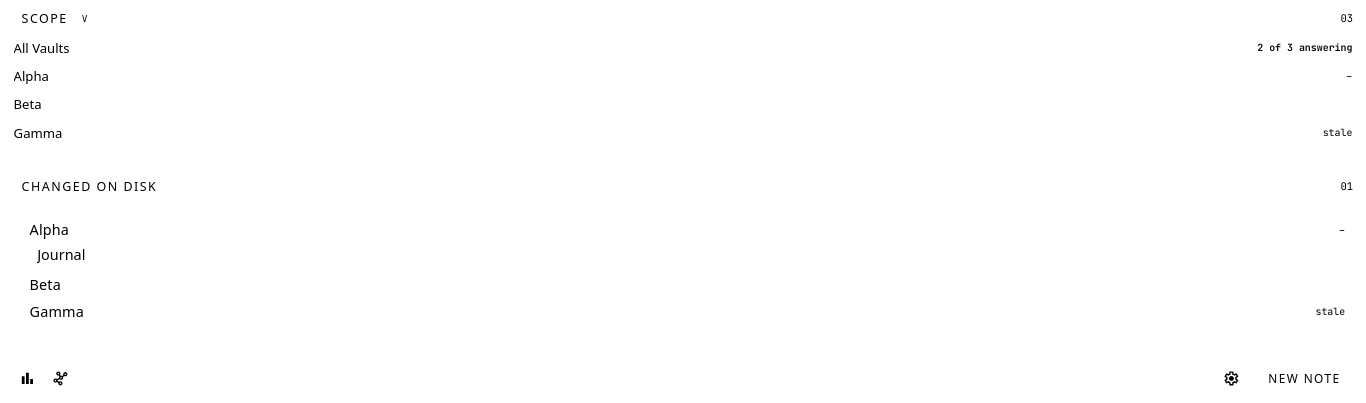
Scenario: ExplorerPane accordion (#142) › clicking the unfolded head folds it, leaving no Vault unfolded
This screenshot has width=1366, height=403.
Click the button "Alpha –" at (49, 230), box [10,220,1350,239]
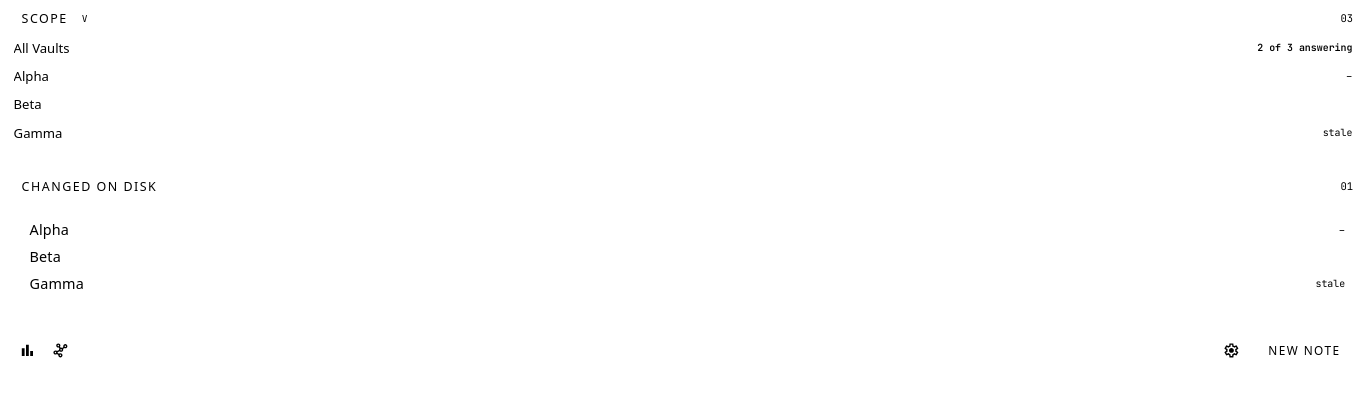
Result: no lists with class "root-tree" are shown
